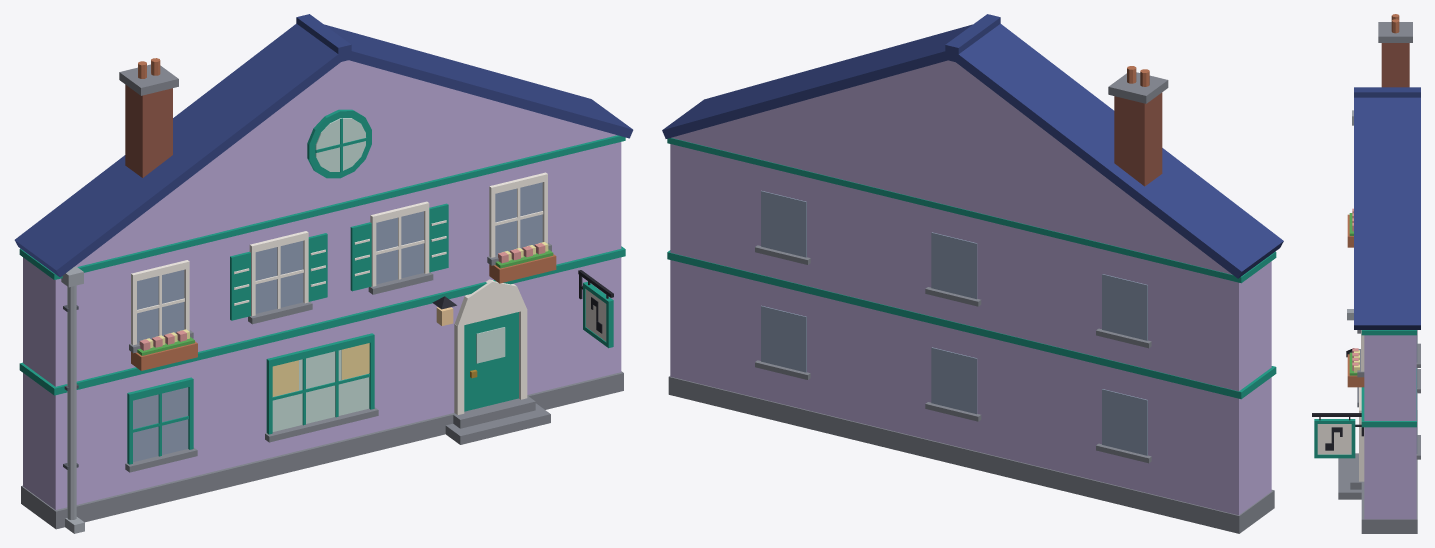
Rendered from CatCafe_Alley_Building_MusicShop.glb.
The picture shows the model from 3 angles, left to right: view 1: azimuth 30°, elevation 25°; view 2: azimuth 150°, elevation 25°; view 3: azimuth 270°, elevation 25°; orthographic projection. The views are drawn at different scales.
Visible parts, largest first — view 1: CatCafe_Alley_Building_MusicShop, CatCafe_Alley_Building_MusicShop_Pane, CatCafe_Alley_Building_MusicShop_Flowers; view 2: CatCafe_Alley_Building_MusicShop; view 3: CatCafe_Alley_Building_MusicShop, CatCafe_Alley_Building_MusicShop_Flowers.
Part boxes in pixels (x1,y1,x2,y2): CatCafe_Alley_Building_MusicShop: (14, 14, 633, 533); CatCafe_Alley_Building_MusicShop_Pane: (272, 118, 369, 431); CatCafe_Alley_Building_MusicShop_Flowers: (137, 242, 553, 355); CatCafe_Alley_Building_MusicShop: (662, 14, 1283, 533); CatCafe_Alley_Building_MusicShop: (1312, 14, 1420, 533); CatCafe_Alley_Building_MusicShop_Flowers: (1349, 208, 1359, 375).
Size of the model in its own units: 30.6 by 21.5 by 6.25.
1 material, 1 textured.
